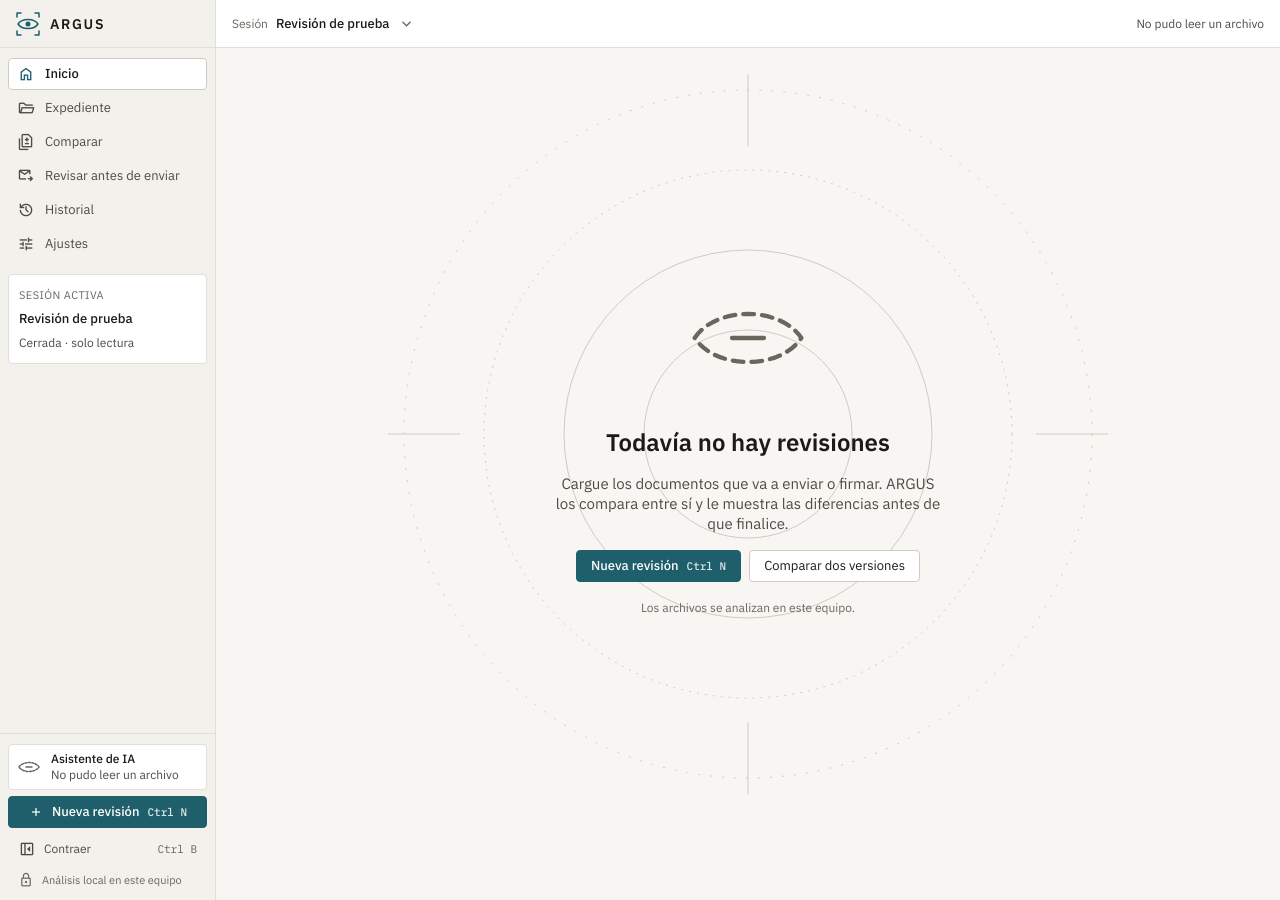
Detalle de alerta: decisiones, deshacer y origen › una revisión cerrada se muestra como solo lectura
Click the button "Expediente" at (108, 108), box [8,92,207,124]
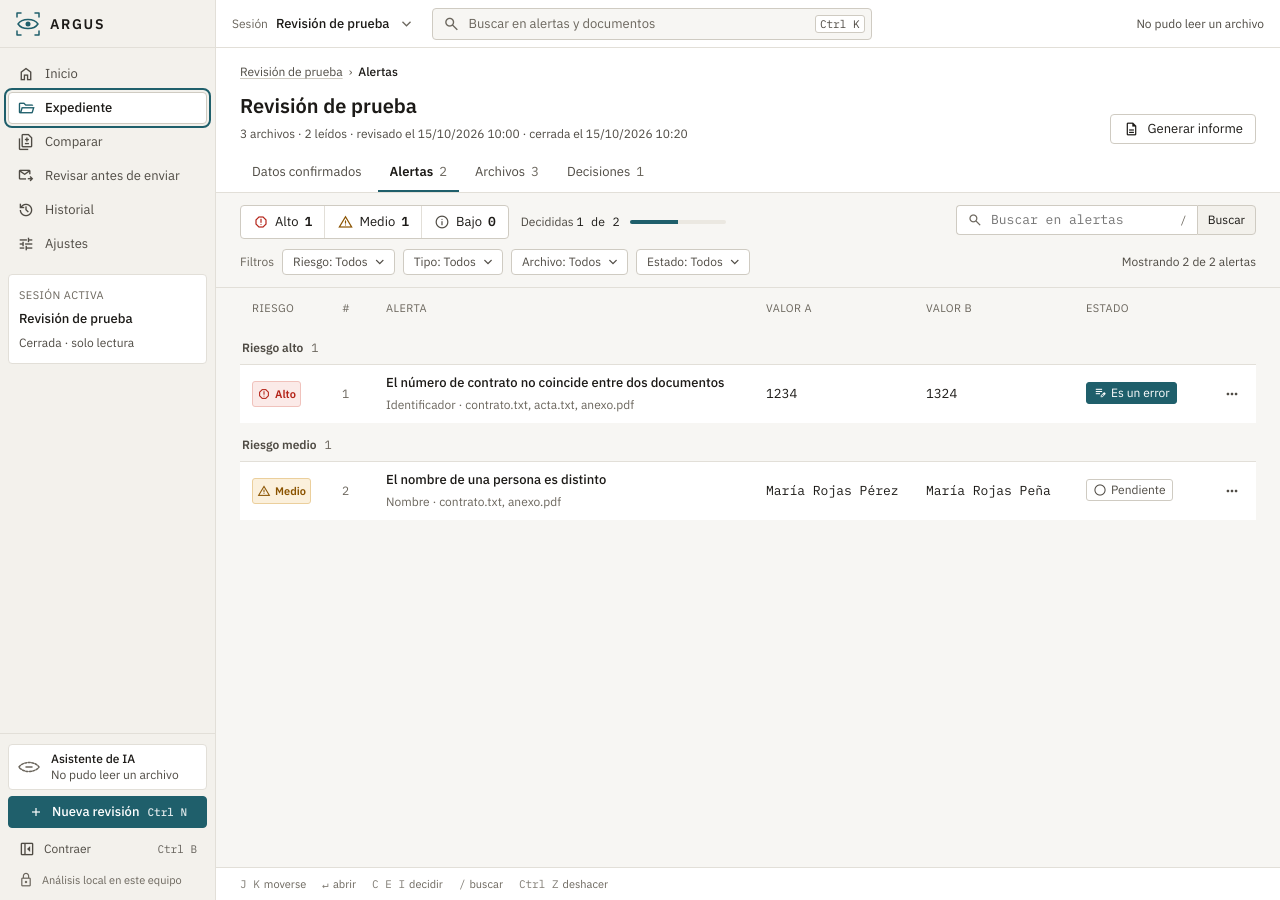
Expected: the text "Cerrada · solo lectura" is shown, [19,335,134,350]
Click the row that starts with "Alto" at (748, 394), box [240,364,1256,423]
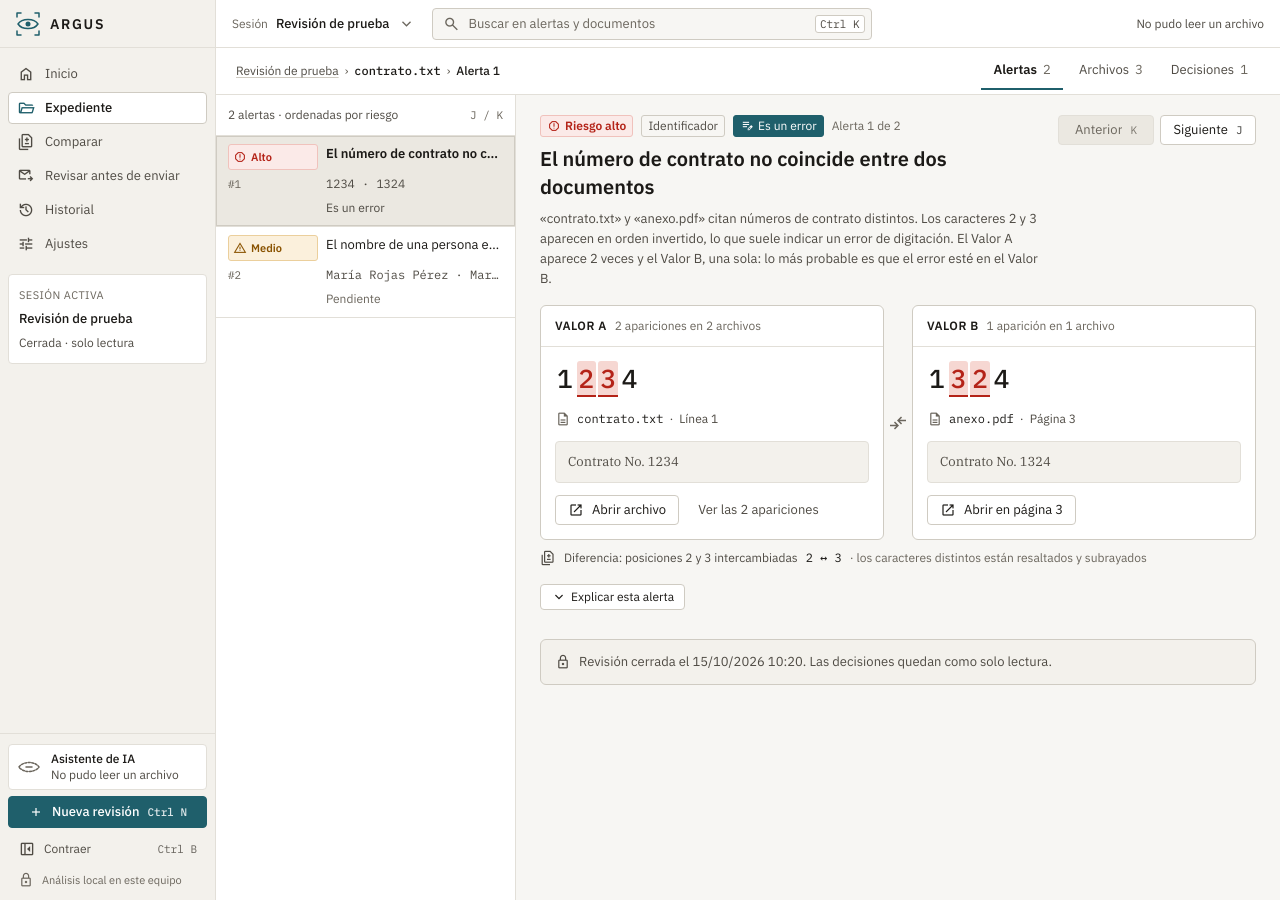
Expected: the text "Revisión cerrada el" is shown, [579,653,1052,670]
